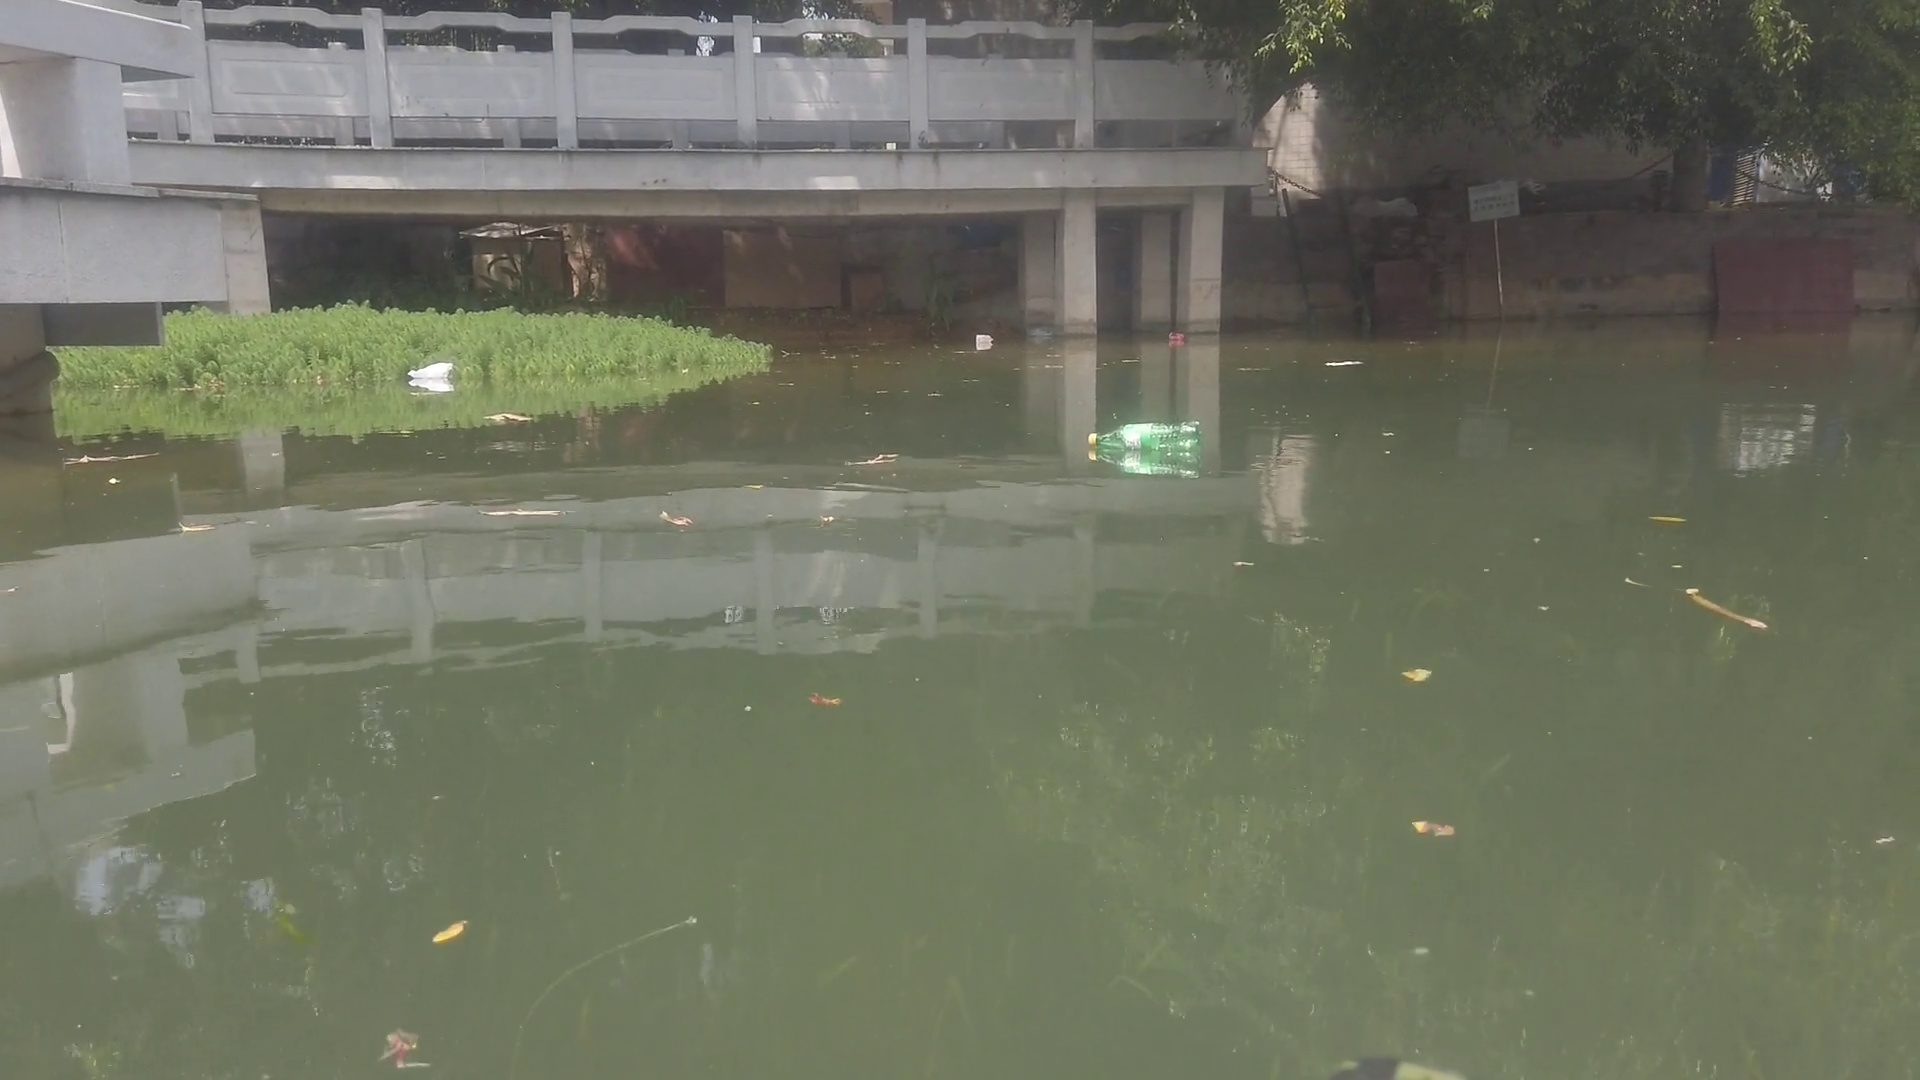bottle: (1083, 417, 1209, 454), (1164, 330, 1199, 351)
carton: (975, 332, 1000, 345)
paper: (1323, 352, 1362, 380)
plastic: (409, 360, 459, 382)
